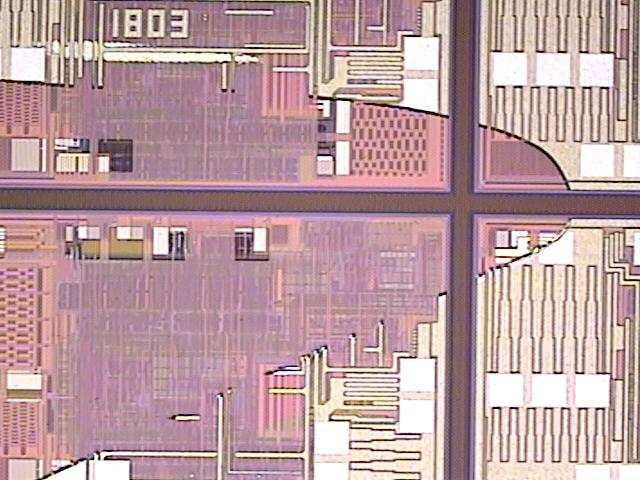COATING BAD: (1, 79, 576, 480)
